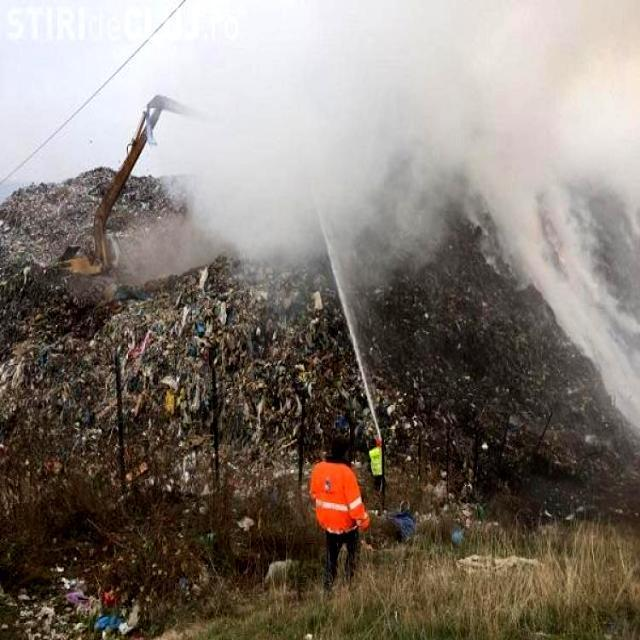Smoke: (115, 1, 636, 342)
